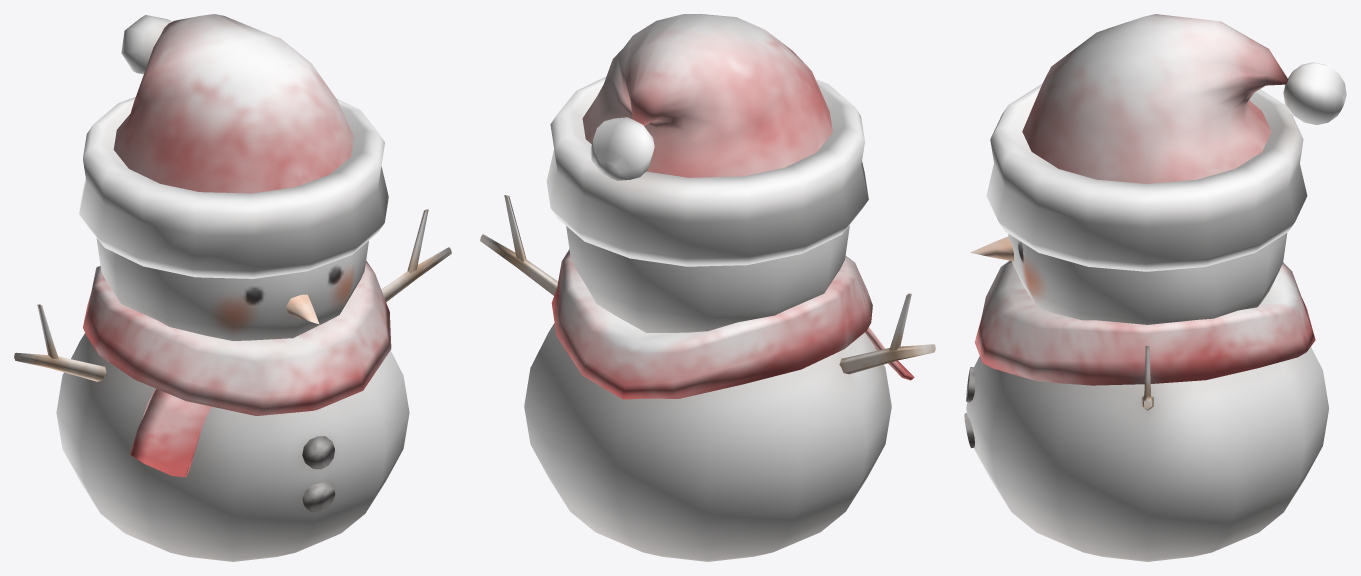
File: Snowman.fbx
3 views of the same model, side by side, from view 1: azimuth 30°, elevation 25°; view 2: azimuth 150°, elevation 25°; view 3: azimuth 270°, elevation 25° (orthographic). The views are drawn at different scales.
Parts seen in each view (by area): view 1: Snowman; view 2: Snowman; view 3: Snowman.
Part boxes in pixels (x1,y1,x2,y2): Snowman: (14,14,451,561); Snowman: (480,14,935,561); Snowman: (964,14,1346,561).
Bounding box in the file's own units: 189 × 205 × 140.
Materials: 1 (1 with a texture image).
